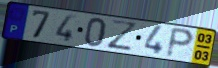0: (83, 17, 108, 48)
4: (143, 23, 165, 57), (54, 13, 76, 44)
7: (29, 8, 54, 40)
P: (165, 26, 196, 59)
Z: (106, 18, 140, 52)
